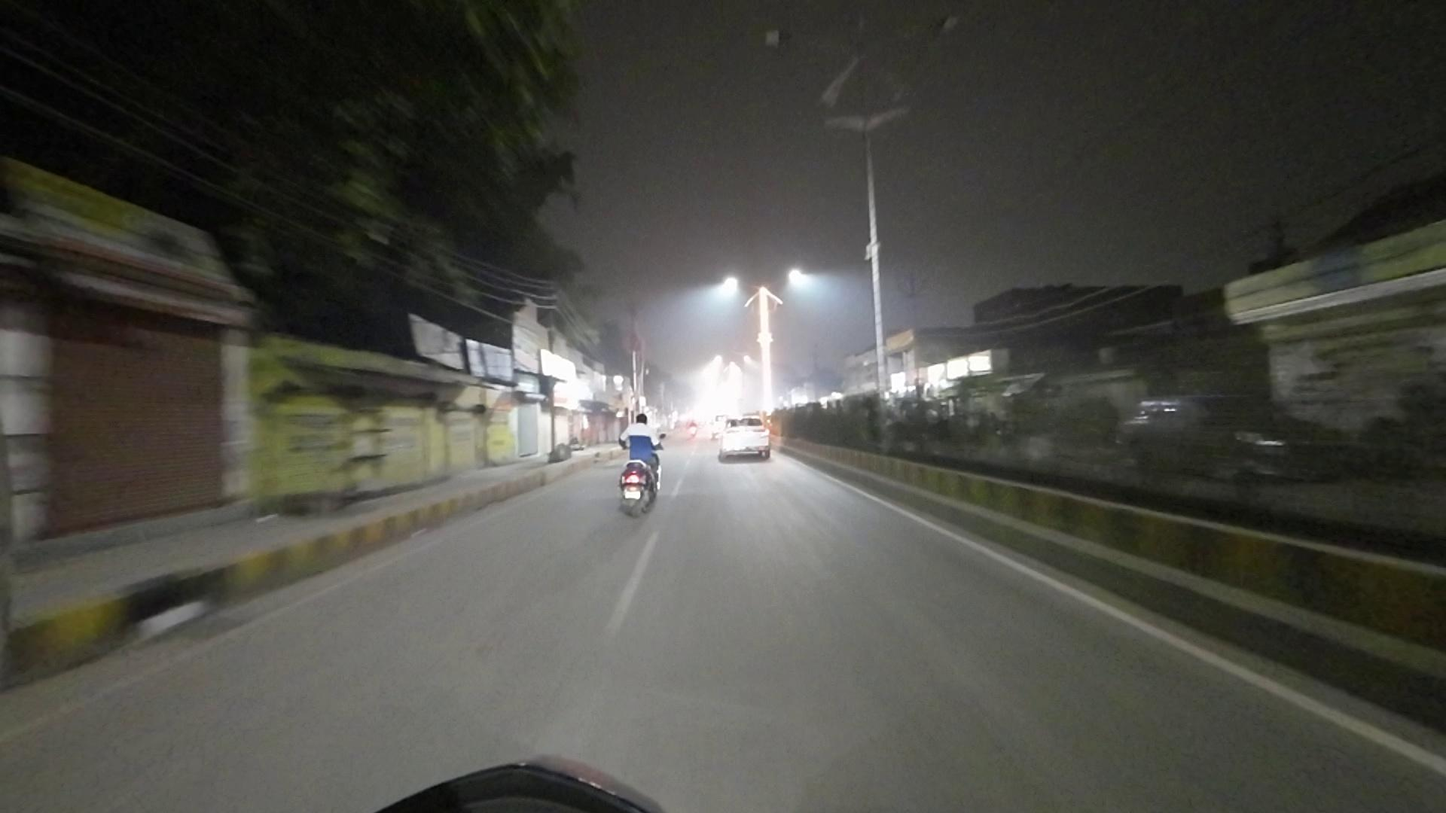streetlight: (760, 20, 853, 60), (873, 10, 965, 42)
